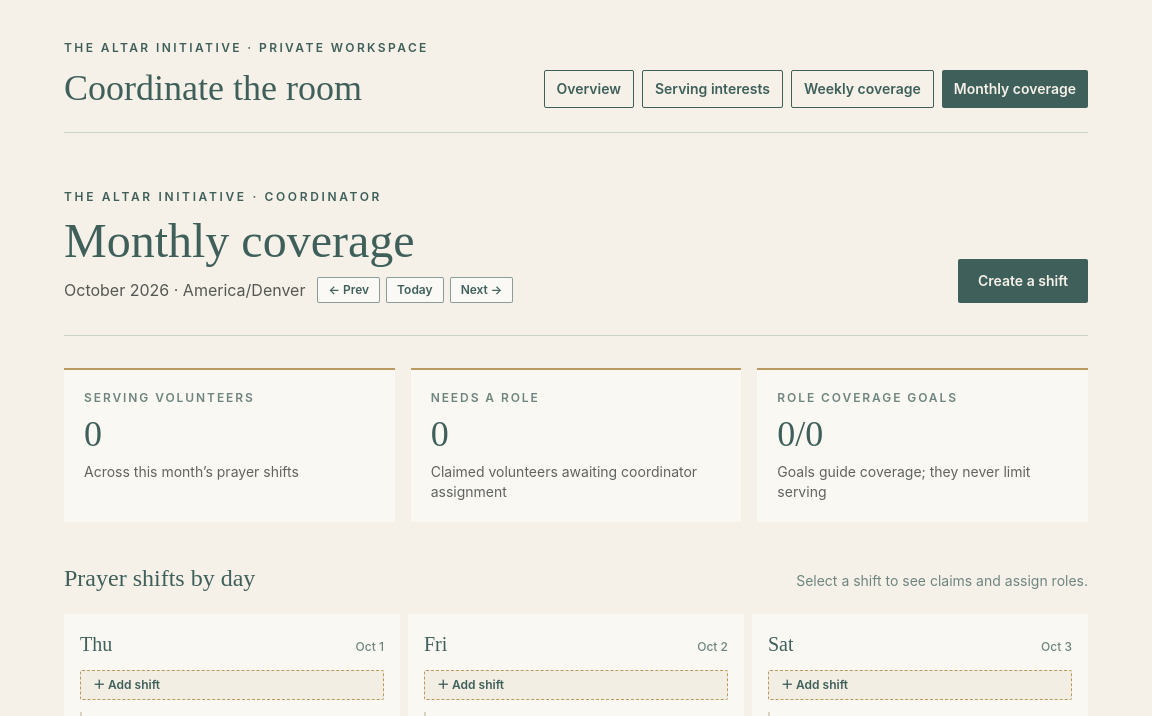
Test: preserves a browsed month and restores current month with Today
What coordinates should you click on to do the following:
click the button with aria-label "Next month"
I would click on:
 (481, 290)
Its box is [450, 277, 513, 303].
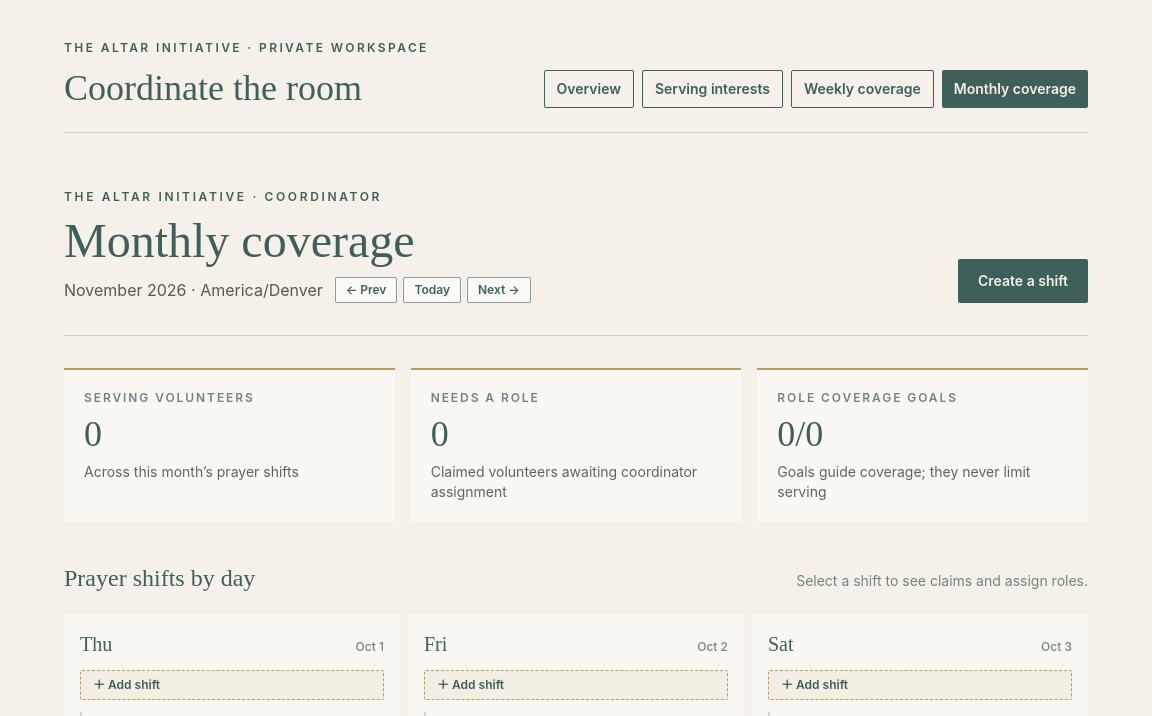
expect the text "November 2026 · America/Denver" is shown: met, box [64, 278, 323, 302]
What coordinates should you click on to do the following:
click the button with aria-label "Current month"
I would click on:
 (432, 290)
Its box is [403, 277, 461, 303].
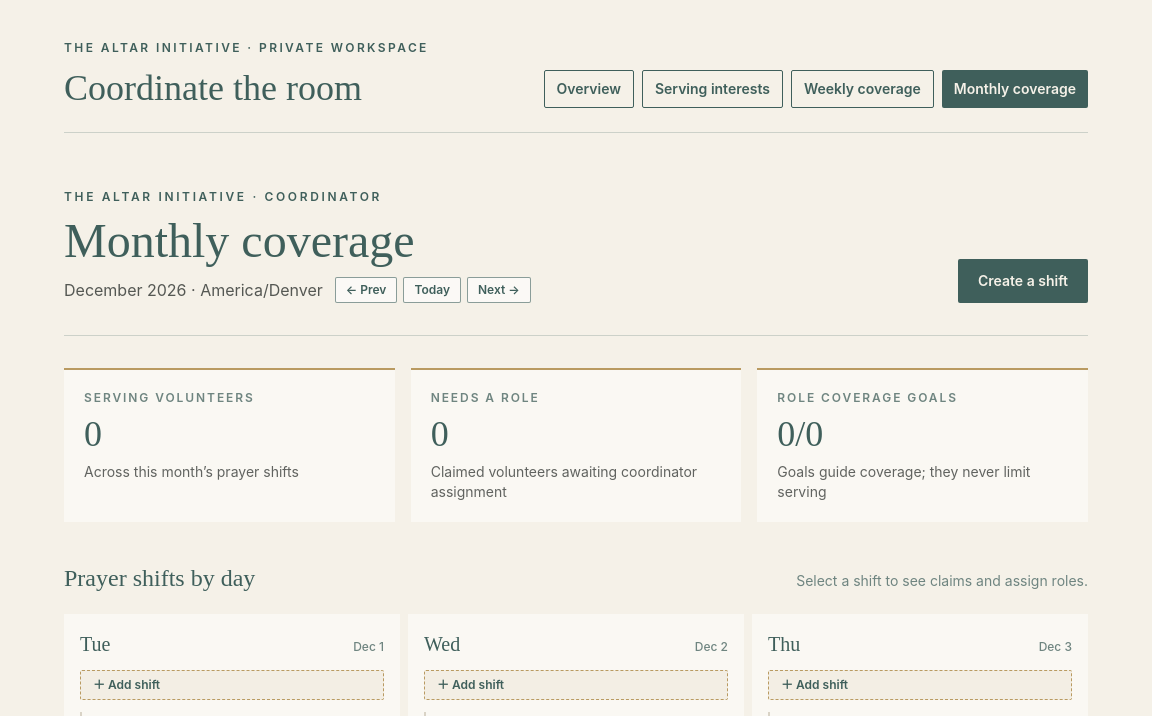
expect the text "December 2026 · America/Denver" is shown: met, box [64, 278, 323, 302]
